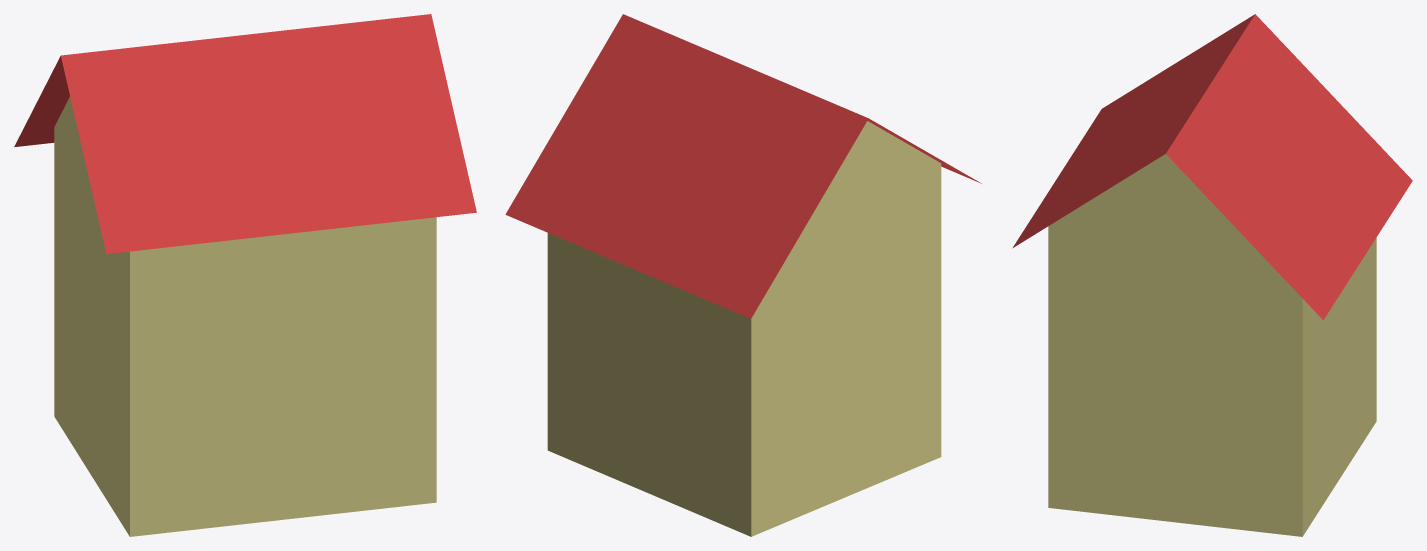
The picture shows the model from 3 angles, left to right: view 1: azimuth 30°, elevation 25°; view 2: azimuth 150°, elevation 25°; view 3: azimuth 270°, elevation 25°; orthographic projection. The views are drawn at different scales.
Bounding box in the file's own units: 7.03 × 6.79 × 7.11.
